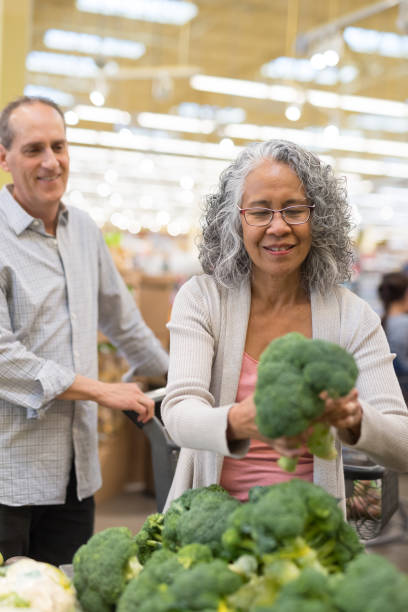face: (241, 177, 314, 274), (6, 119, 71, 203)
